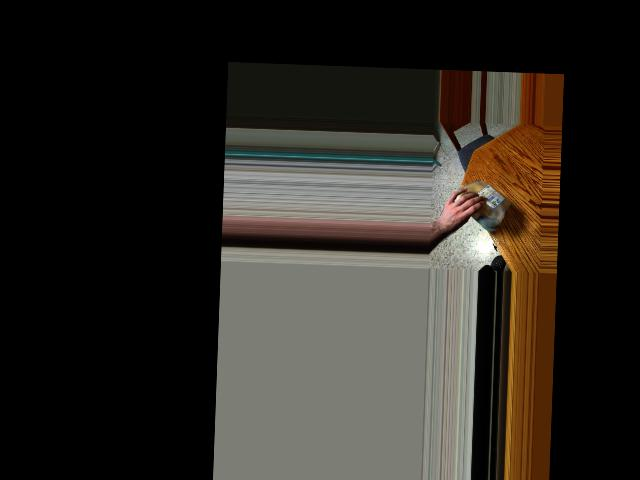cheese: (449, 177, 513, 231)
